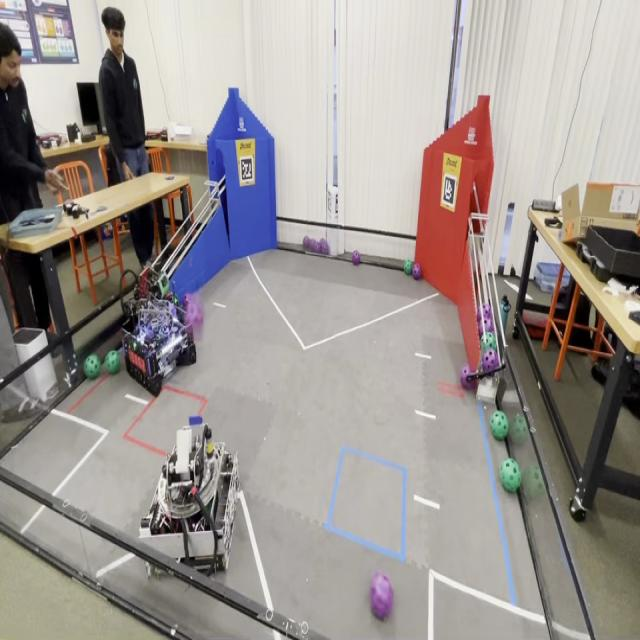artifact_green: (522, 464, 545, 500), (500, 458, 521, 493), (510, 414, 528, 445), (490, 411, 509, 440), (84, 355, 101, 379), (104, 351, 120, 375), (480, 332, 497, 353), (165, 291, 178, 305), (412, 264, 422, 280), (352, 251, 361, 265), (404, 260, 413, 274), (172, 294, 178, 306), (133, 342, 137, 350)
artifact_purple: (370, 573, 393, 619), (186, 294, 203, 338), (482, 349, 498, 373), (460, 364, 475, 389), (478, 318, 493, 336), (477, 303, 491, 322), (144, 325, 155, 342), (412, 264, 421, 280), (352, 251, 361, 265), (183, 294, 190, 309), (319, 239, 326, 254), (170, 304, 177, 319), (309, 239, 317, 252), (317, 238, 323, 254), (302, 236, 309, 248), (316, 239, 321, 253), (324, 242, 329, 254)
